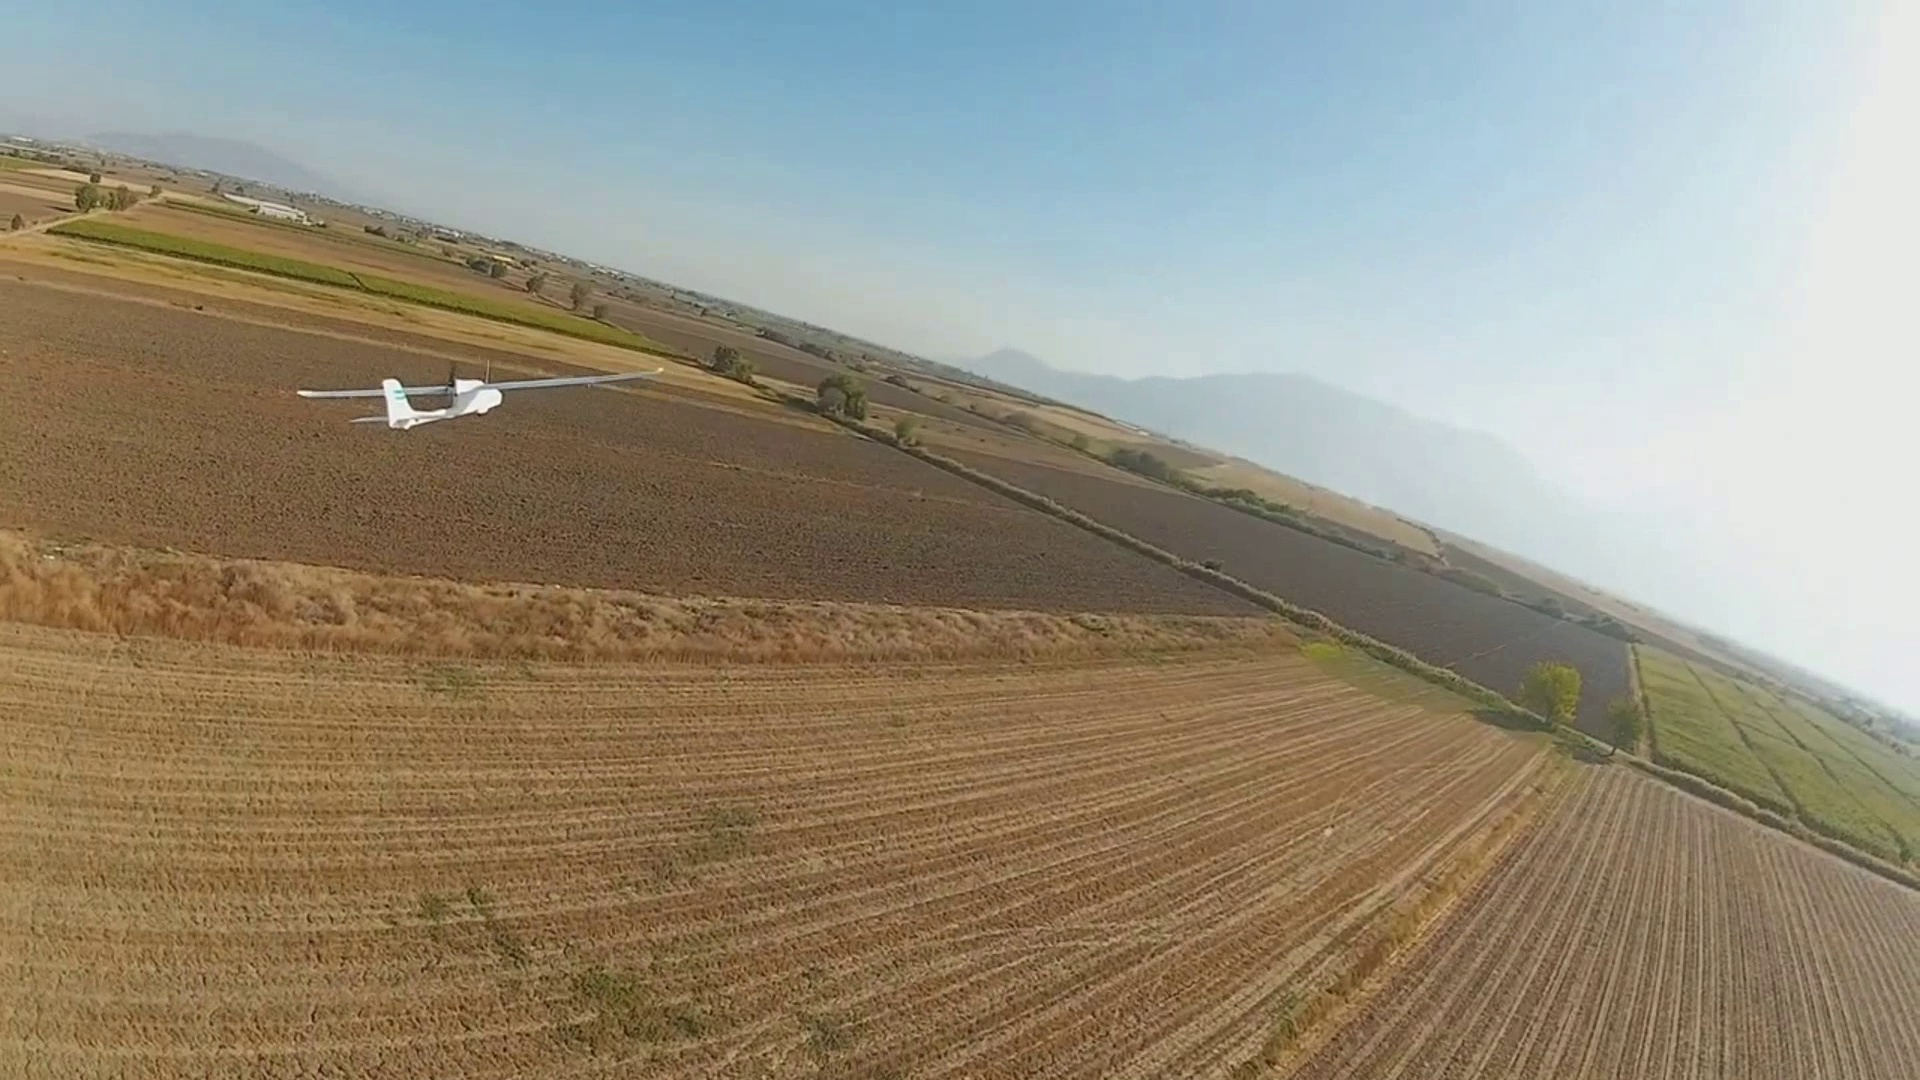airplane: (294, 373, 500, 426)
